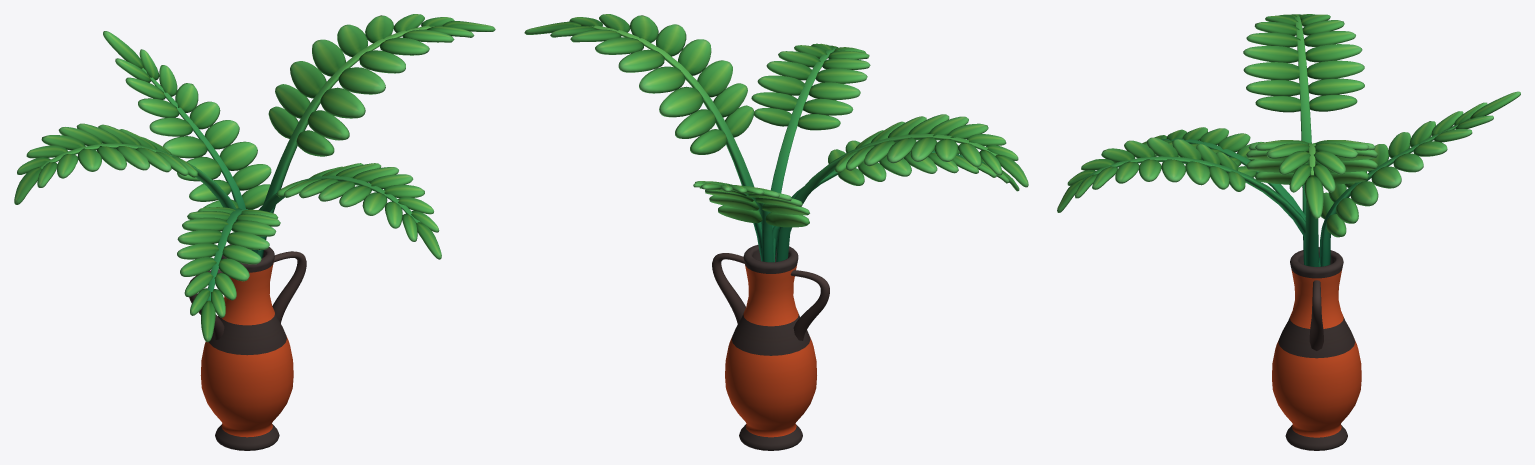
Rendered from Plants_18.glb.
3 renders of one model, left to right at view 1: azimuth 30°, elevation 25°; view 2: azimuth 150°, elevation 25°; view 3: azimuth 270°, elevation 25°, orthographic. The views are drawn at different scales.
Parts seen in each view (by area): view 1: Plants_18; view 2: Plants_18; view 3: Plants_18.
Part boxes in pixels (x1,y1,x2,y2): Plants_18: [14, 14, 495, 450]; Plants_18: [524, 14, 1028, 450]; Plants_18: [1057, 14, 1520, 450].
Size of the model in its own units: 1.9 by 1.37 by 1.6.
1 material, 1 textured.
